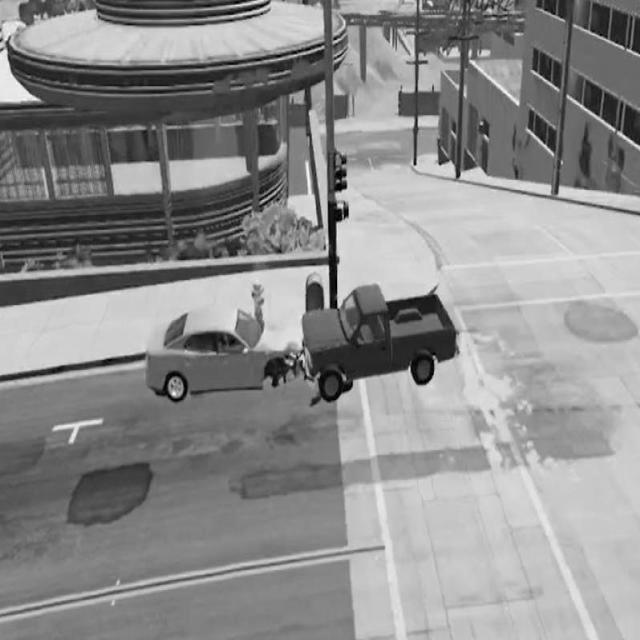accident: (140, 280, 466, 405)
